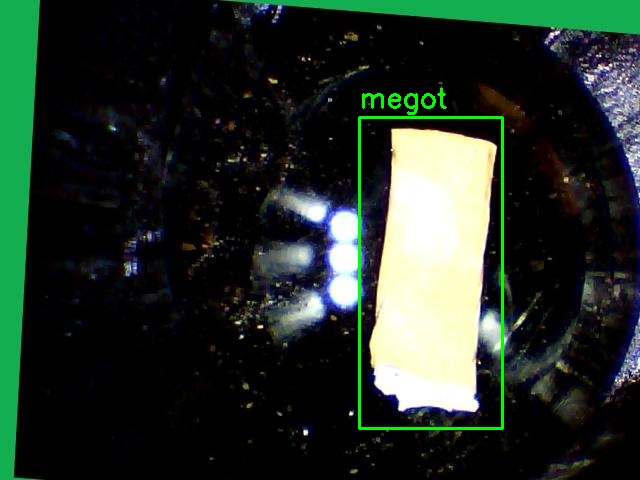megot: (359, 117, 502, 428)
